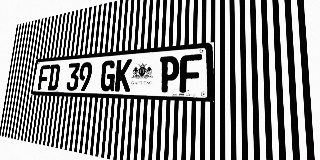3: (66, 63, 80, 91)
9: (78, 62, 93, 91)
D: (47, 64, 60, 90)
F: (179, 54, 202, 93), (37, 65, 50, 90)
G: (100, 60, 116, 91)
K: (114, 59, 132, 92)
P: (159, 55, 180, 92)
